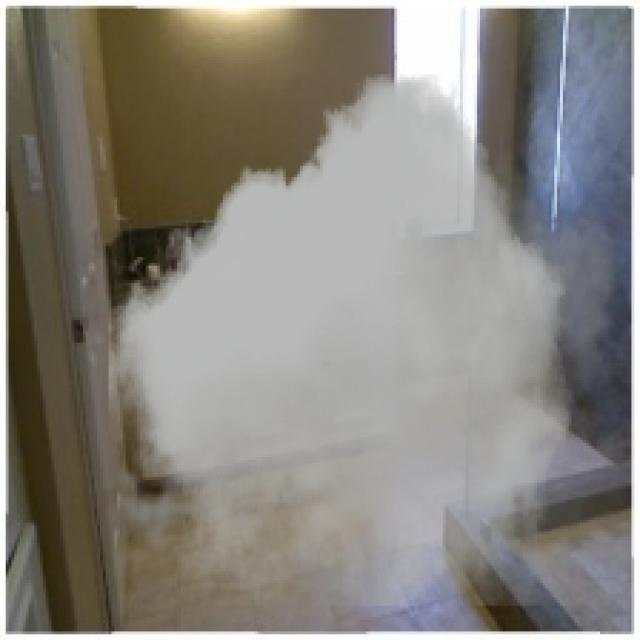smoke: (100, 74, 631, 606)
